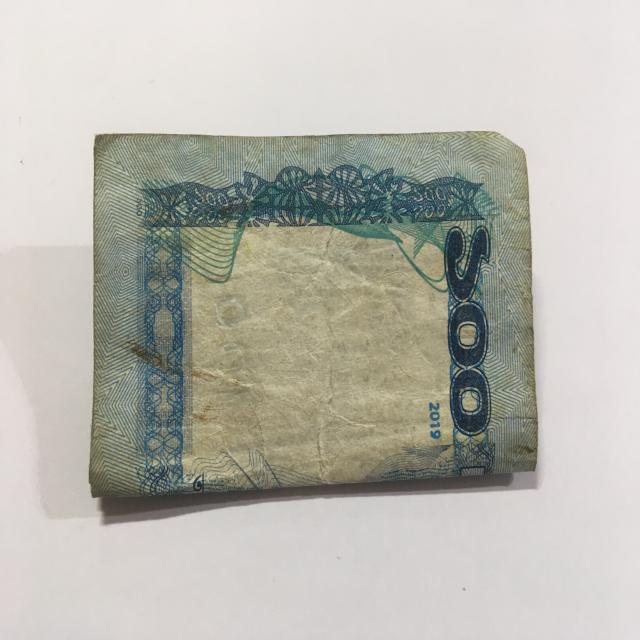Taka: (78, 113, 548, 490)
